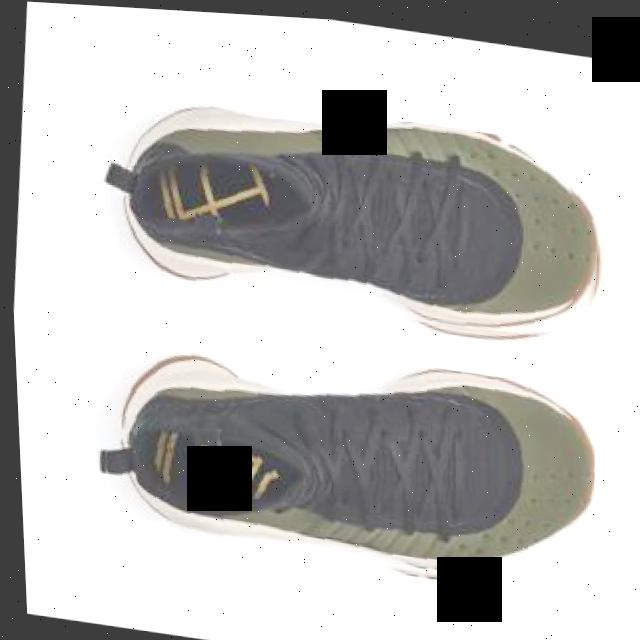shoe: (84, 317, 602, 599), (107, 78, 611, 350)
